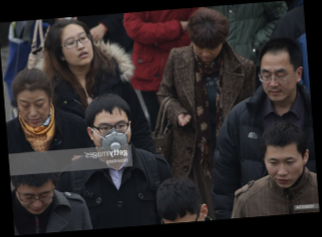with_mask: (91, 118, 132, 157)
without_mask: (260, 65, 296, 104), (263, 153, 302, 189), (59, 29, 94, 67), (16, 95, 50, 128), (17, 186, 53, 215), (192, 41, 221, 63)
